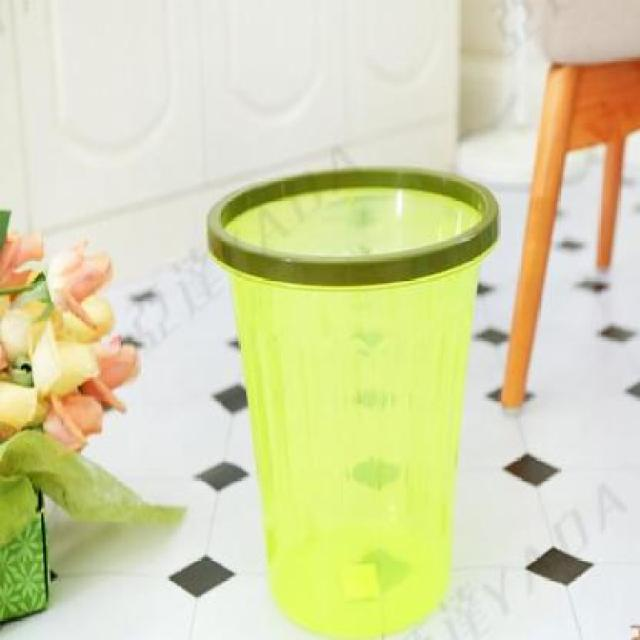dustbin: (203, 157, 505, 640)
